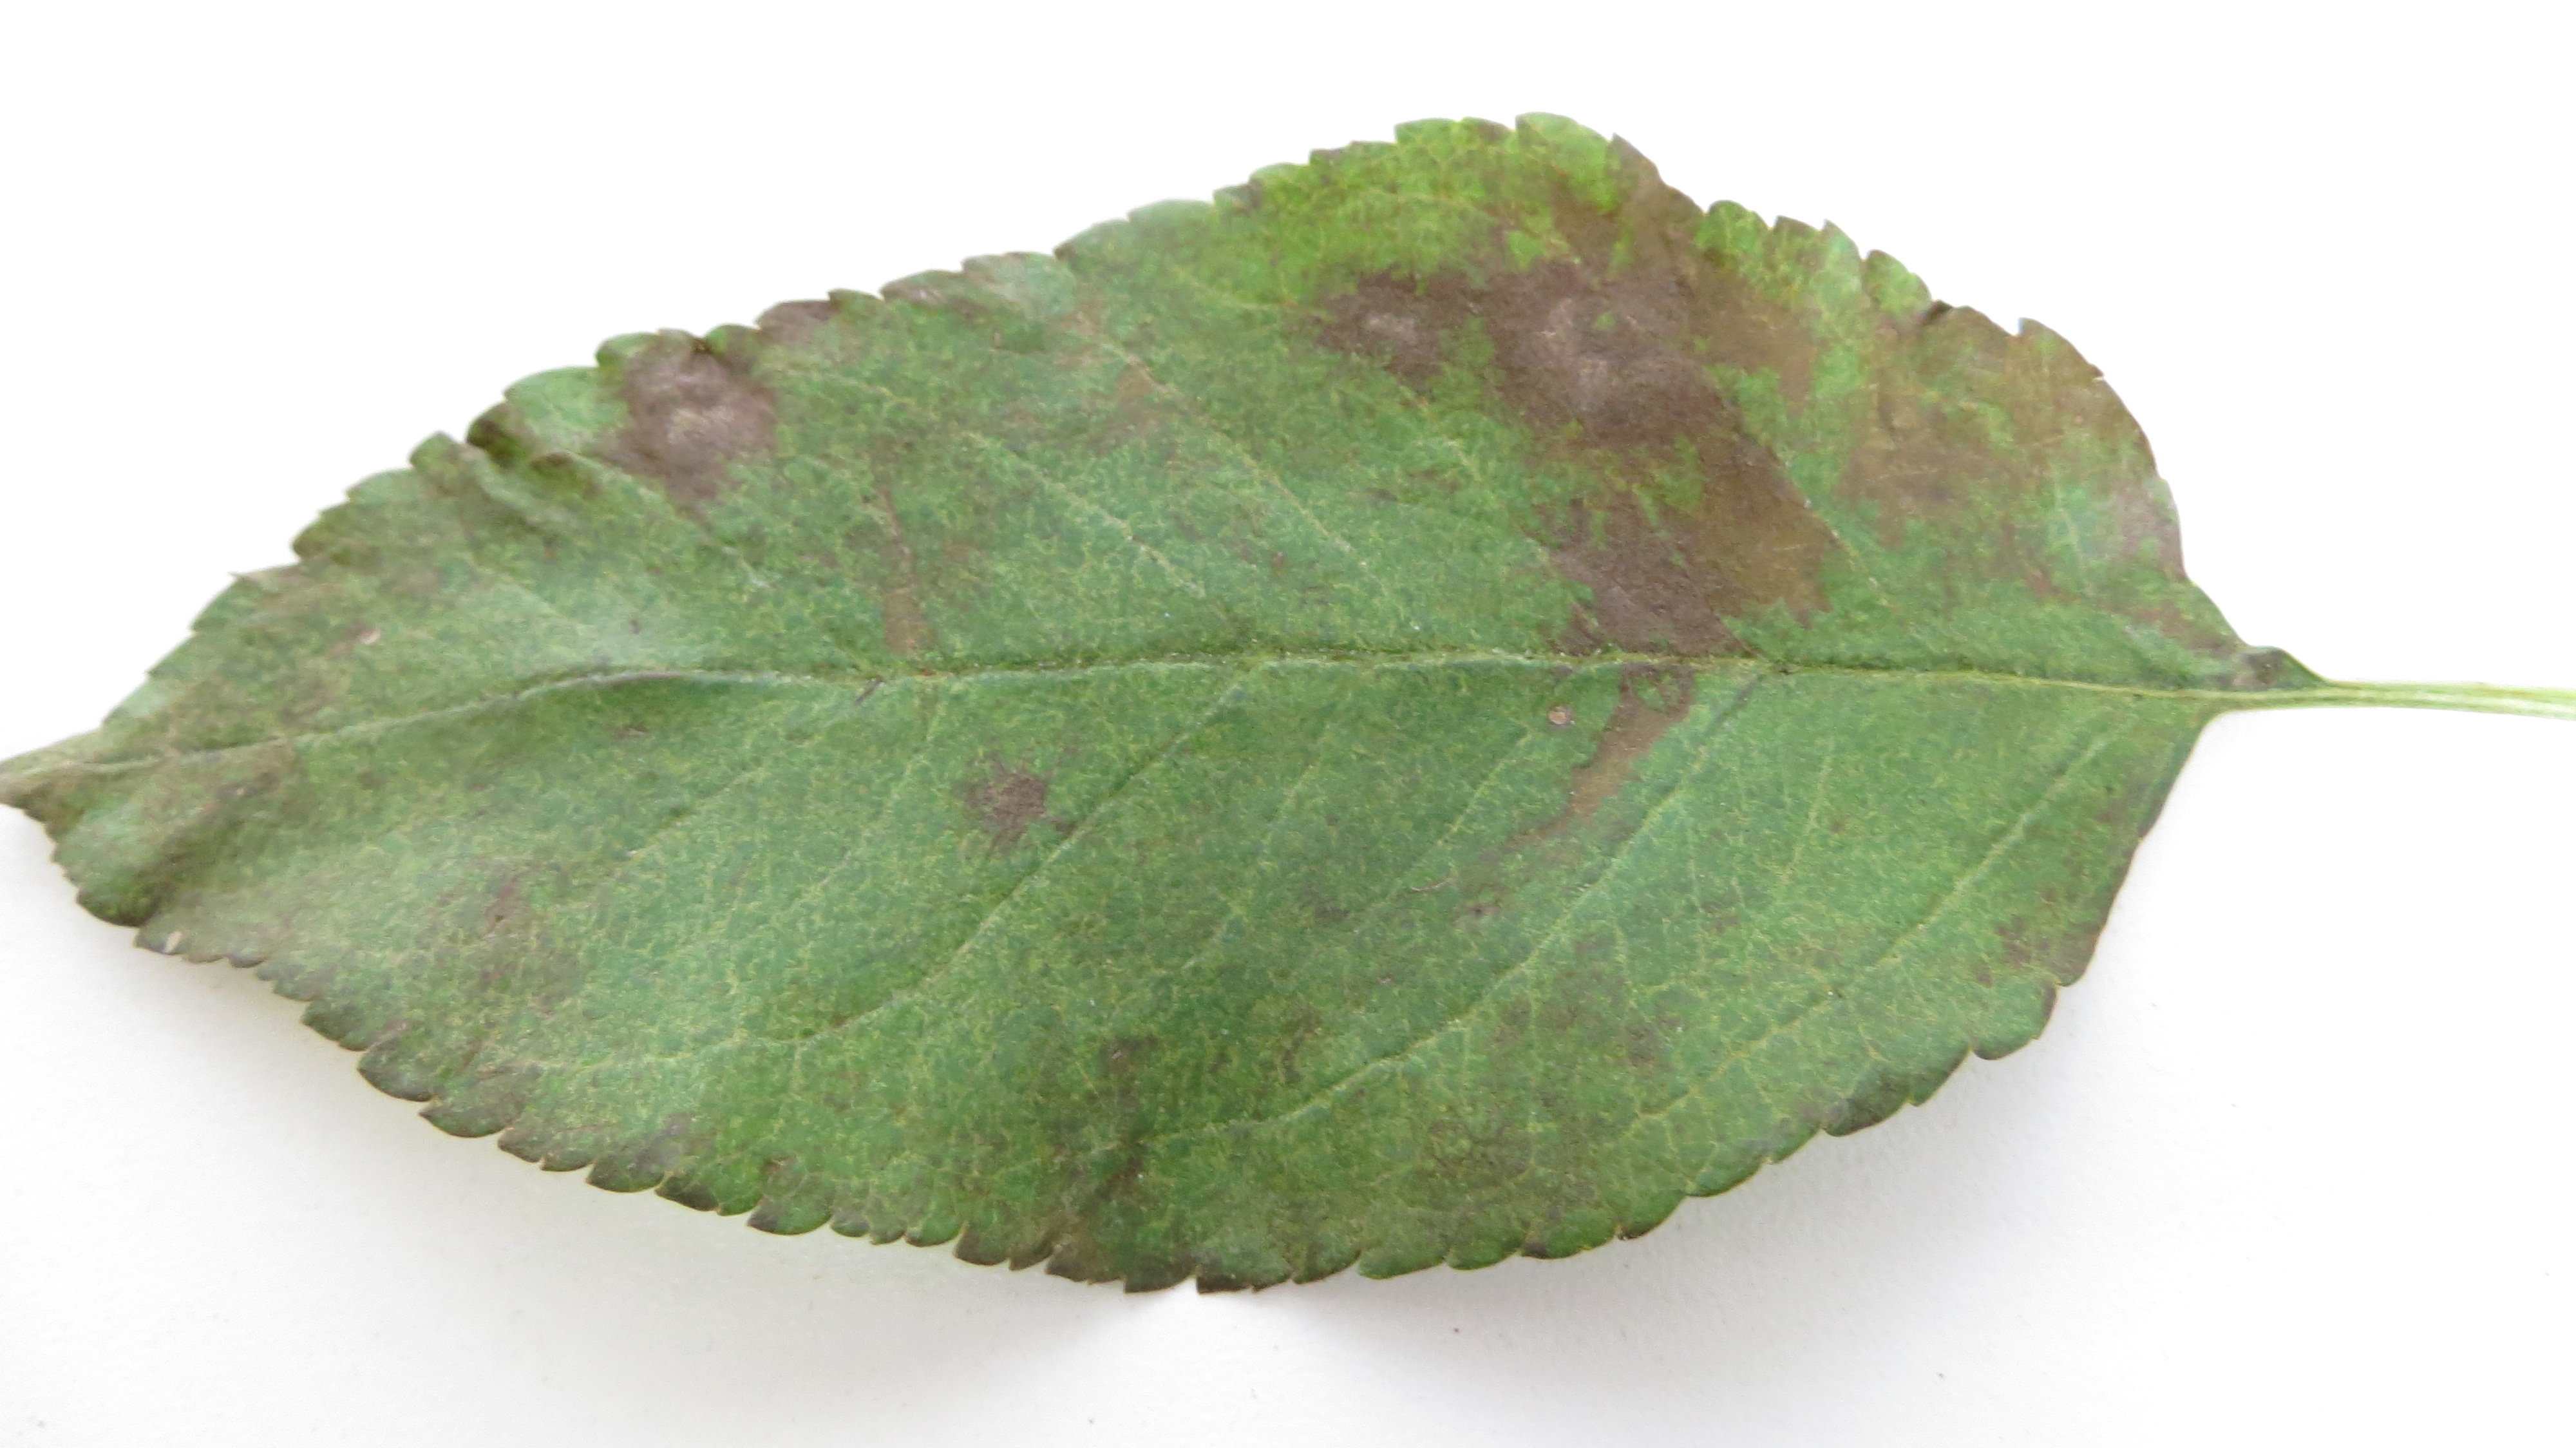sarna: (1840, 280, 2151, 627), (1481, 138, 1794, 444), (1513, 434, 1844, 678), (828, 421, 996, 710), (586, 333, 787, 519), (1300, 223, 1484, 425), (1537, 666, 1707, 866), (945, 745, 1076, 871)
